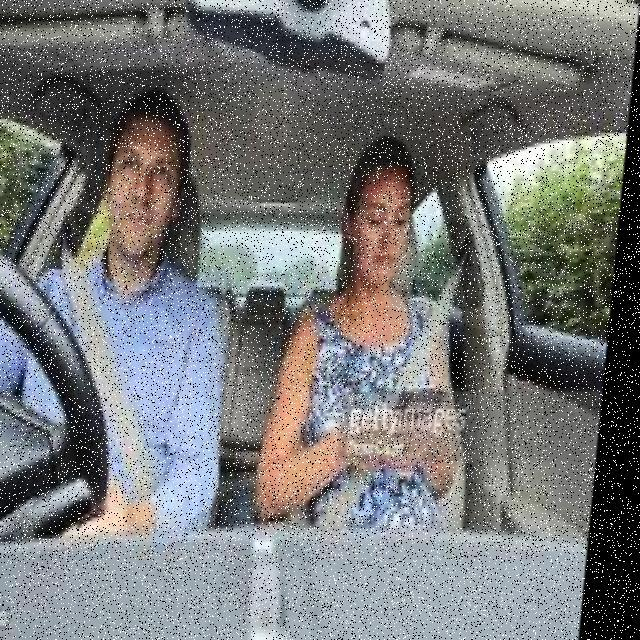seatbelt: (40, 234, 229, 539)
